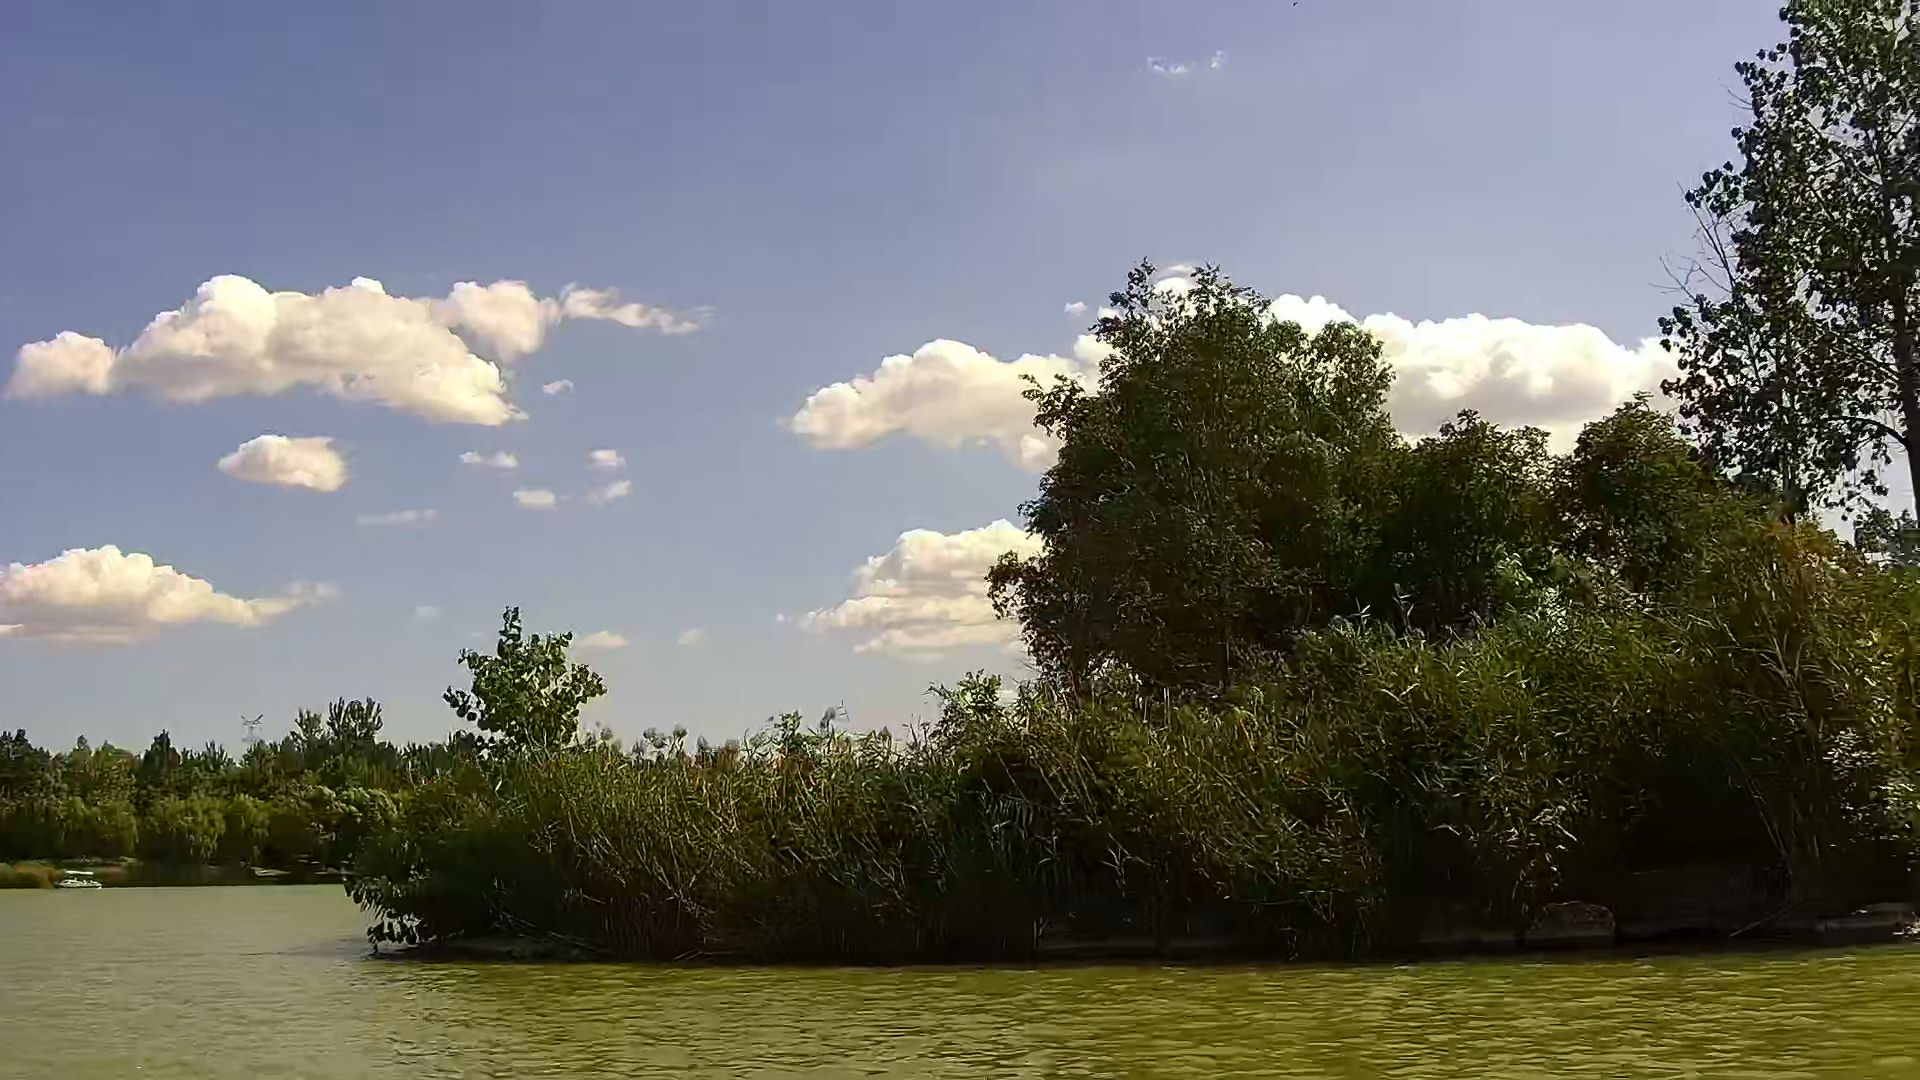boat: (53, 866, 102, 893)
